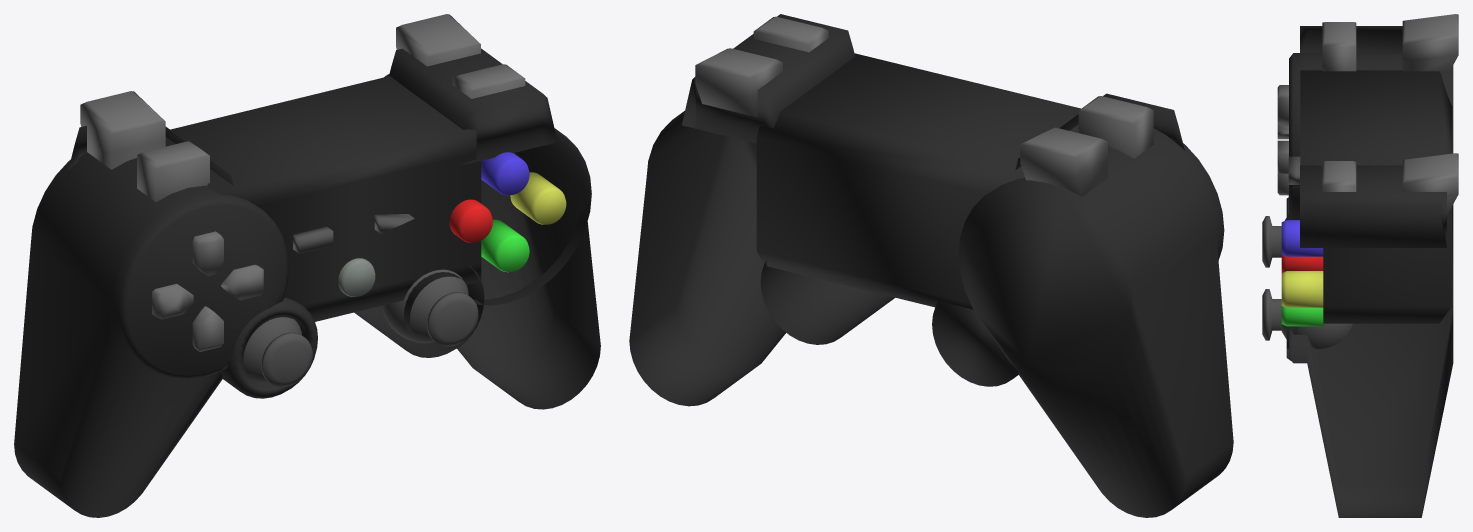
File: ControllerModel.glb
3 renders of one model, left to right at view 1: azimuth 30°, elevation 25°; view 2: azimuth 150°, elevation 25°; view 3: azimuth 270°, elevation 25°, orthographic. The views are drawn at different scales.
Visible parts, largest first — view 1: Cube.003, Cube.007, Cube.004, Cylinder.008, Cube.002, Cylinder.004; view 2: Cube.003, Cube.007; view 3: Cube.003, Cube.007, Cylinder.008, Cube.004, Cube.002.
Part boxes in pixels (bbox=[...]): Cube.003: bbox=[14, 48, 600, 517]; Cube.007: bbox=[80, 14, 525, 201]; Cube.004: bbox=[243, 214, 478, 387]; Cylinder.008: bbox=[449, 152, 566, 272]; Cube.002: bbox=[152, 231, 263, 351]; Cylinder.004: bbox=[338, 258, 375, 296]; Cube.003: bbox=[629, 14, 1233, 517]; Cube.007: bbox=[695, 16, 1153, 196]; Cube.003: bbox=[1286, 26, 1453, 517]; Cube.007: bbox=[1322, 14, 1458, 214]; Cylinder.008: bbox=[1281, 220, 1323, 326]; Cube.004: bbox=[1262, 156, 1352, 349]; Cube.002: bbox=[1277, 85, 1288, 195].
Bounding box in the file's own units: 7.42 × 4.68 × 2.58.
